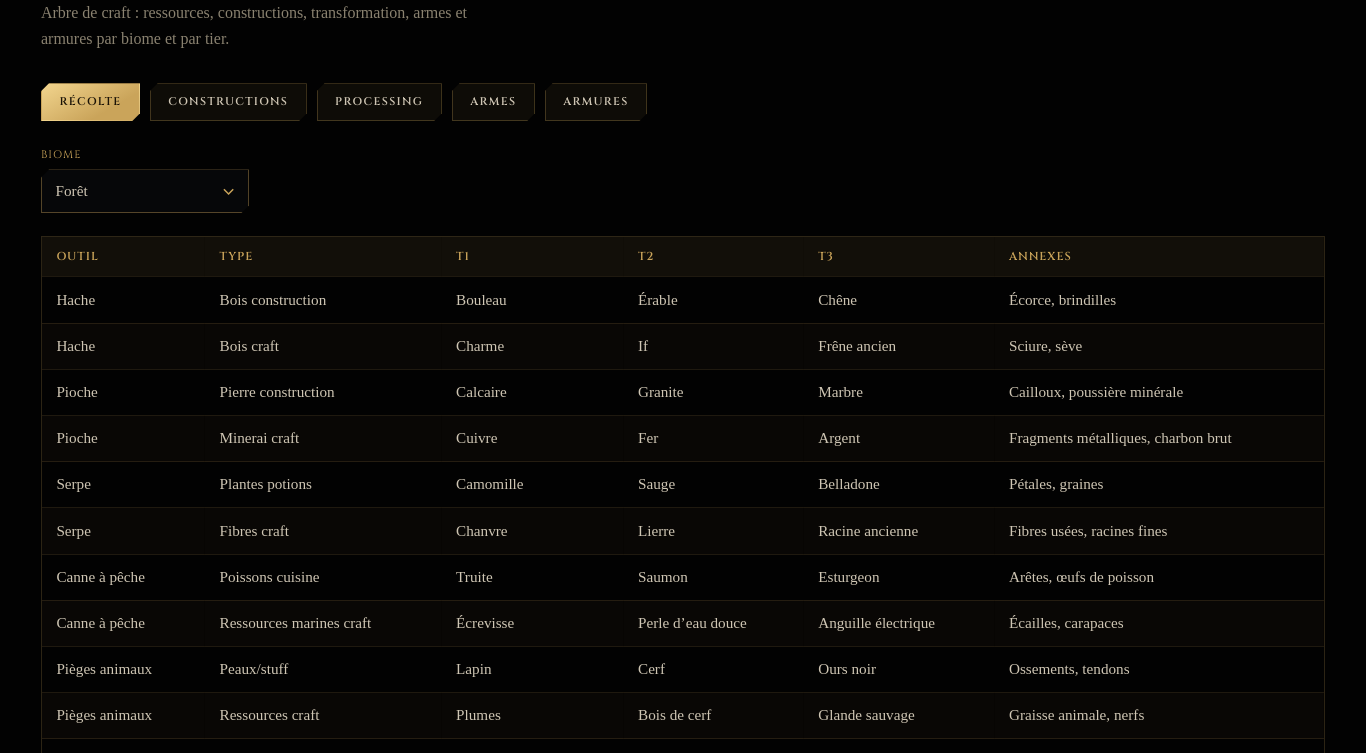
Test: CraftTree › affiche biome + tier pour les armes (8 colonnes, sans « Qté totale »)
The image size is (1366, 753).
Click the tab with class "craft__tab" showing "Armes" at (493,102), box [452,83,535,121]
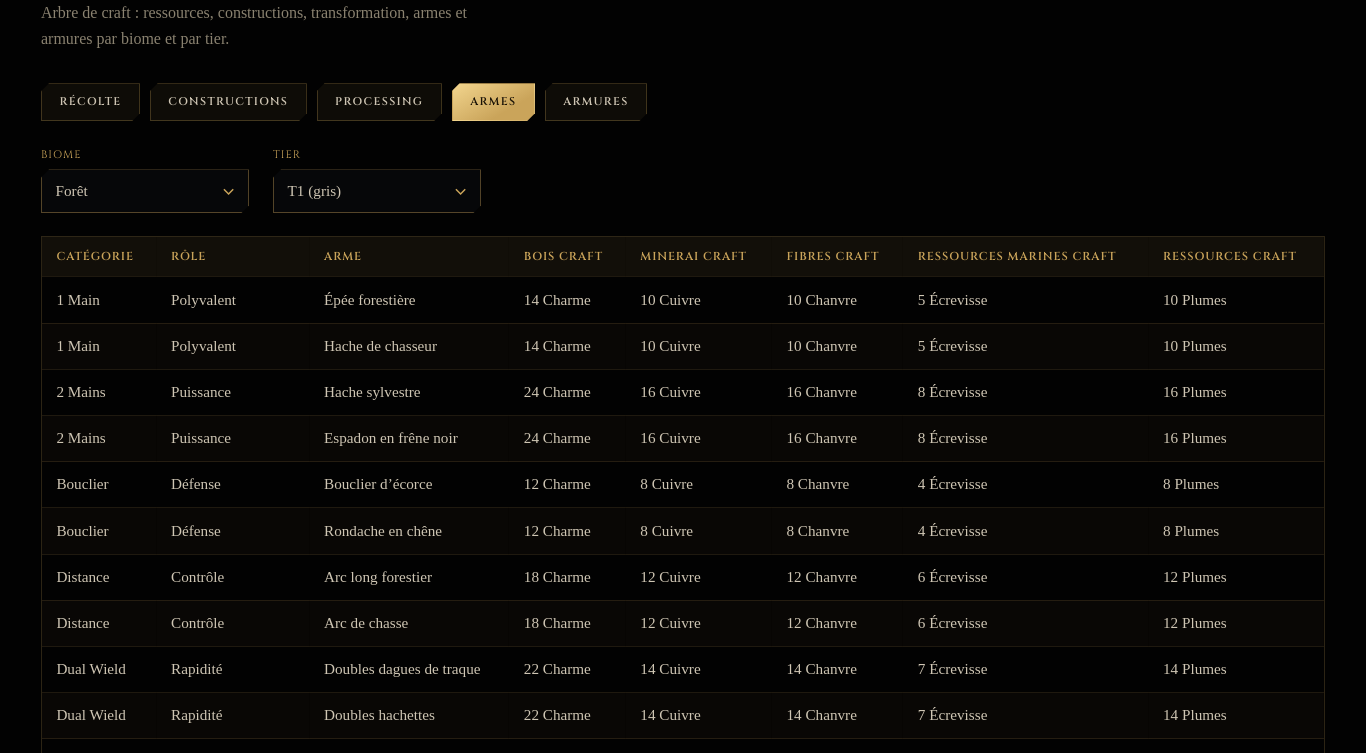
Result: the number of elements with class "craft__control" is 2 at [41,147,249,214]; [273,147,481,214]
Result: the number of column headings is 8
